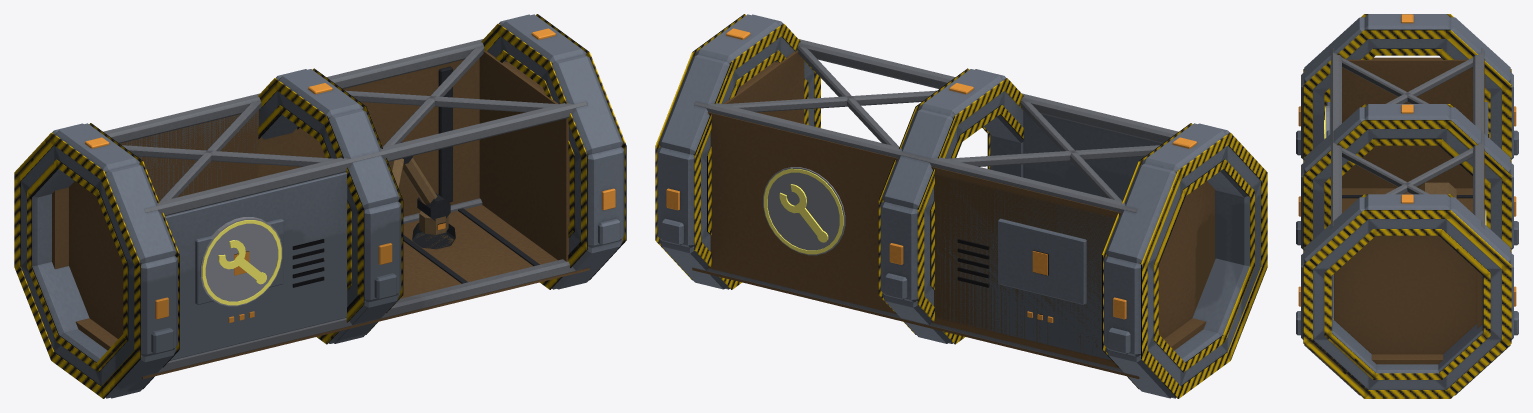
Rendered from SM_MaintenanceBay.fbx.
3 renders of one model, left to right at view 1: azimuth 30°, elevation 25°; view 2: azimuth 150°, elevation 25°; view 3: azimuth 270°, elevation 25°, orthographic. The views are drawn at different scales.
Visible parts, largest first — view 1: SMN_MaintenanceBay, Emblem_MaintenanceBay; view 2: SMN_MaintenanceBay, Emblem_MaintenanceBay_b; view 3: SMN_MaintenanceBay.
Part boxes in pixels (left/top/right/bottom): SMN_MaintenanceBay: left=14, top=14, right=626, bottom=398; Emblem_MaintenanceBay: left=200, top=217, right=282, bottom=306; SMN_MaintenanceBay: left=655, top=14, right=1267, bottom=398; Emblem_MaintenanceBay_b: left=763, top=167, right=845, bottom=255; SMN_MaintenanceBay: left=1296, top=14, right=1518, bottom=398.
Bounding box in the file's own units: 1.9 × 0.879 × 0.91.
